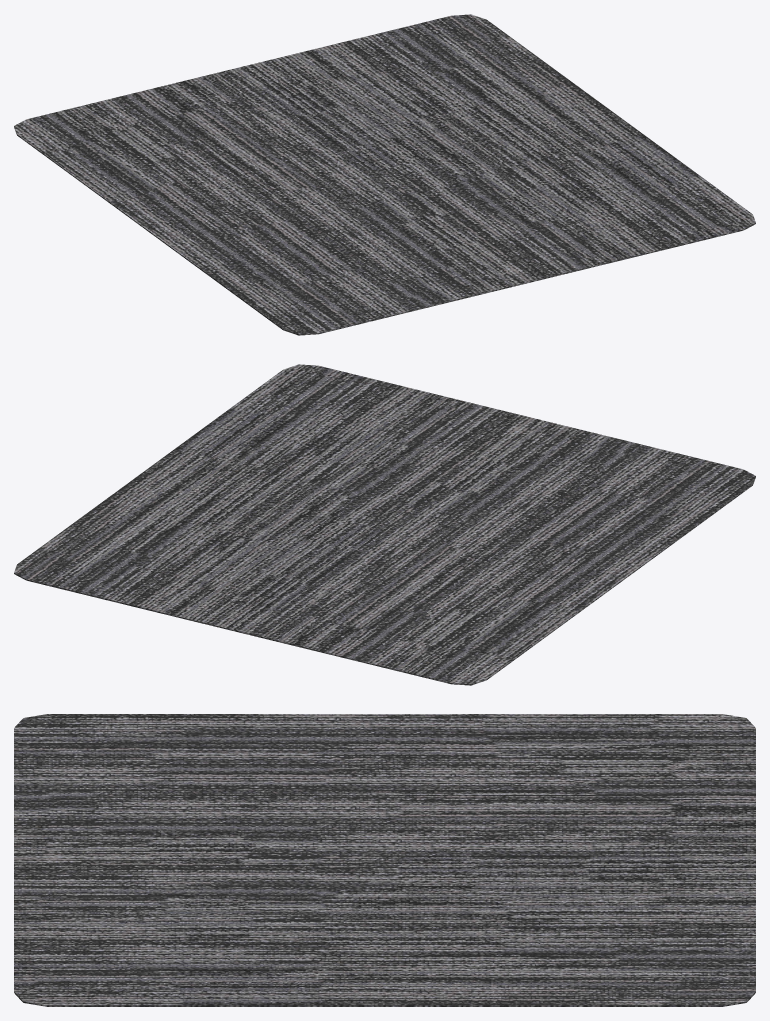
The model's file is UL1_floor.fbx.
3 views of the same model, one above another, from view 1: azimuth 30°, elevation 25°; view 2: azimuth 150°, elevation 25°; view 3: azimuth 270°, elevation 25° (orthographic). The views are drawn at different scales.
Visible parts, largest first — view 1: UL1_floor1; view 2: UL1_floor1; view 3: UL1_floor1.
Part boxes in pixels (box(x1,y1,x2,y2)): UL1_floor1: box(14, 14, 755, 335); UL1_floor1: box(14, 364, 755, 685); UL1_floor1: box(14, 714, 755, 1006).
Bounding box in the file's own units: 4.17 × 4.49 × 0.01.
1 material, 1 textured.
